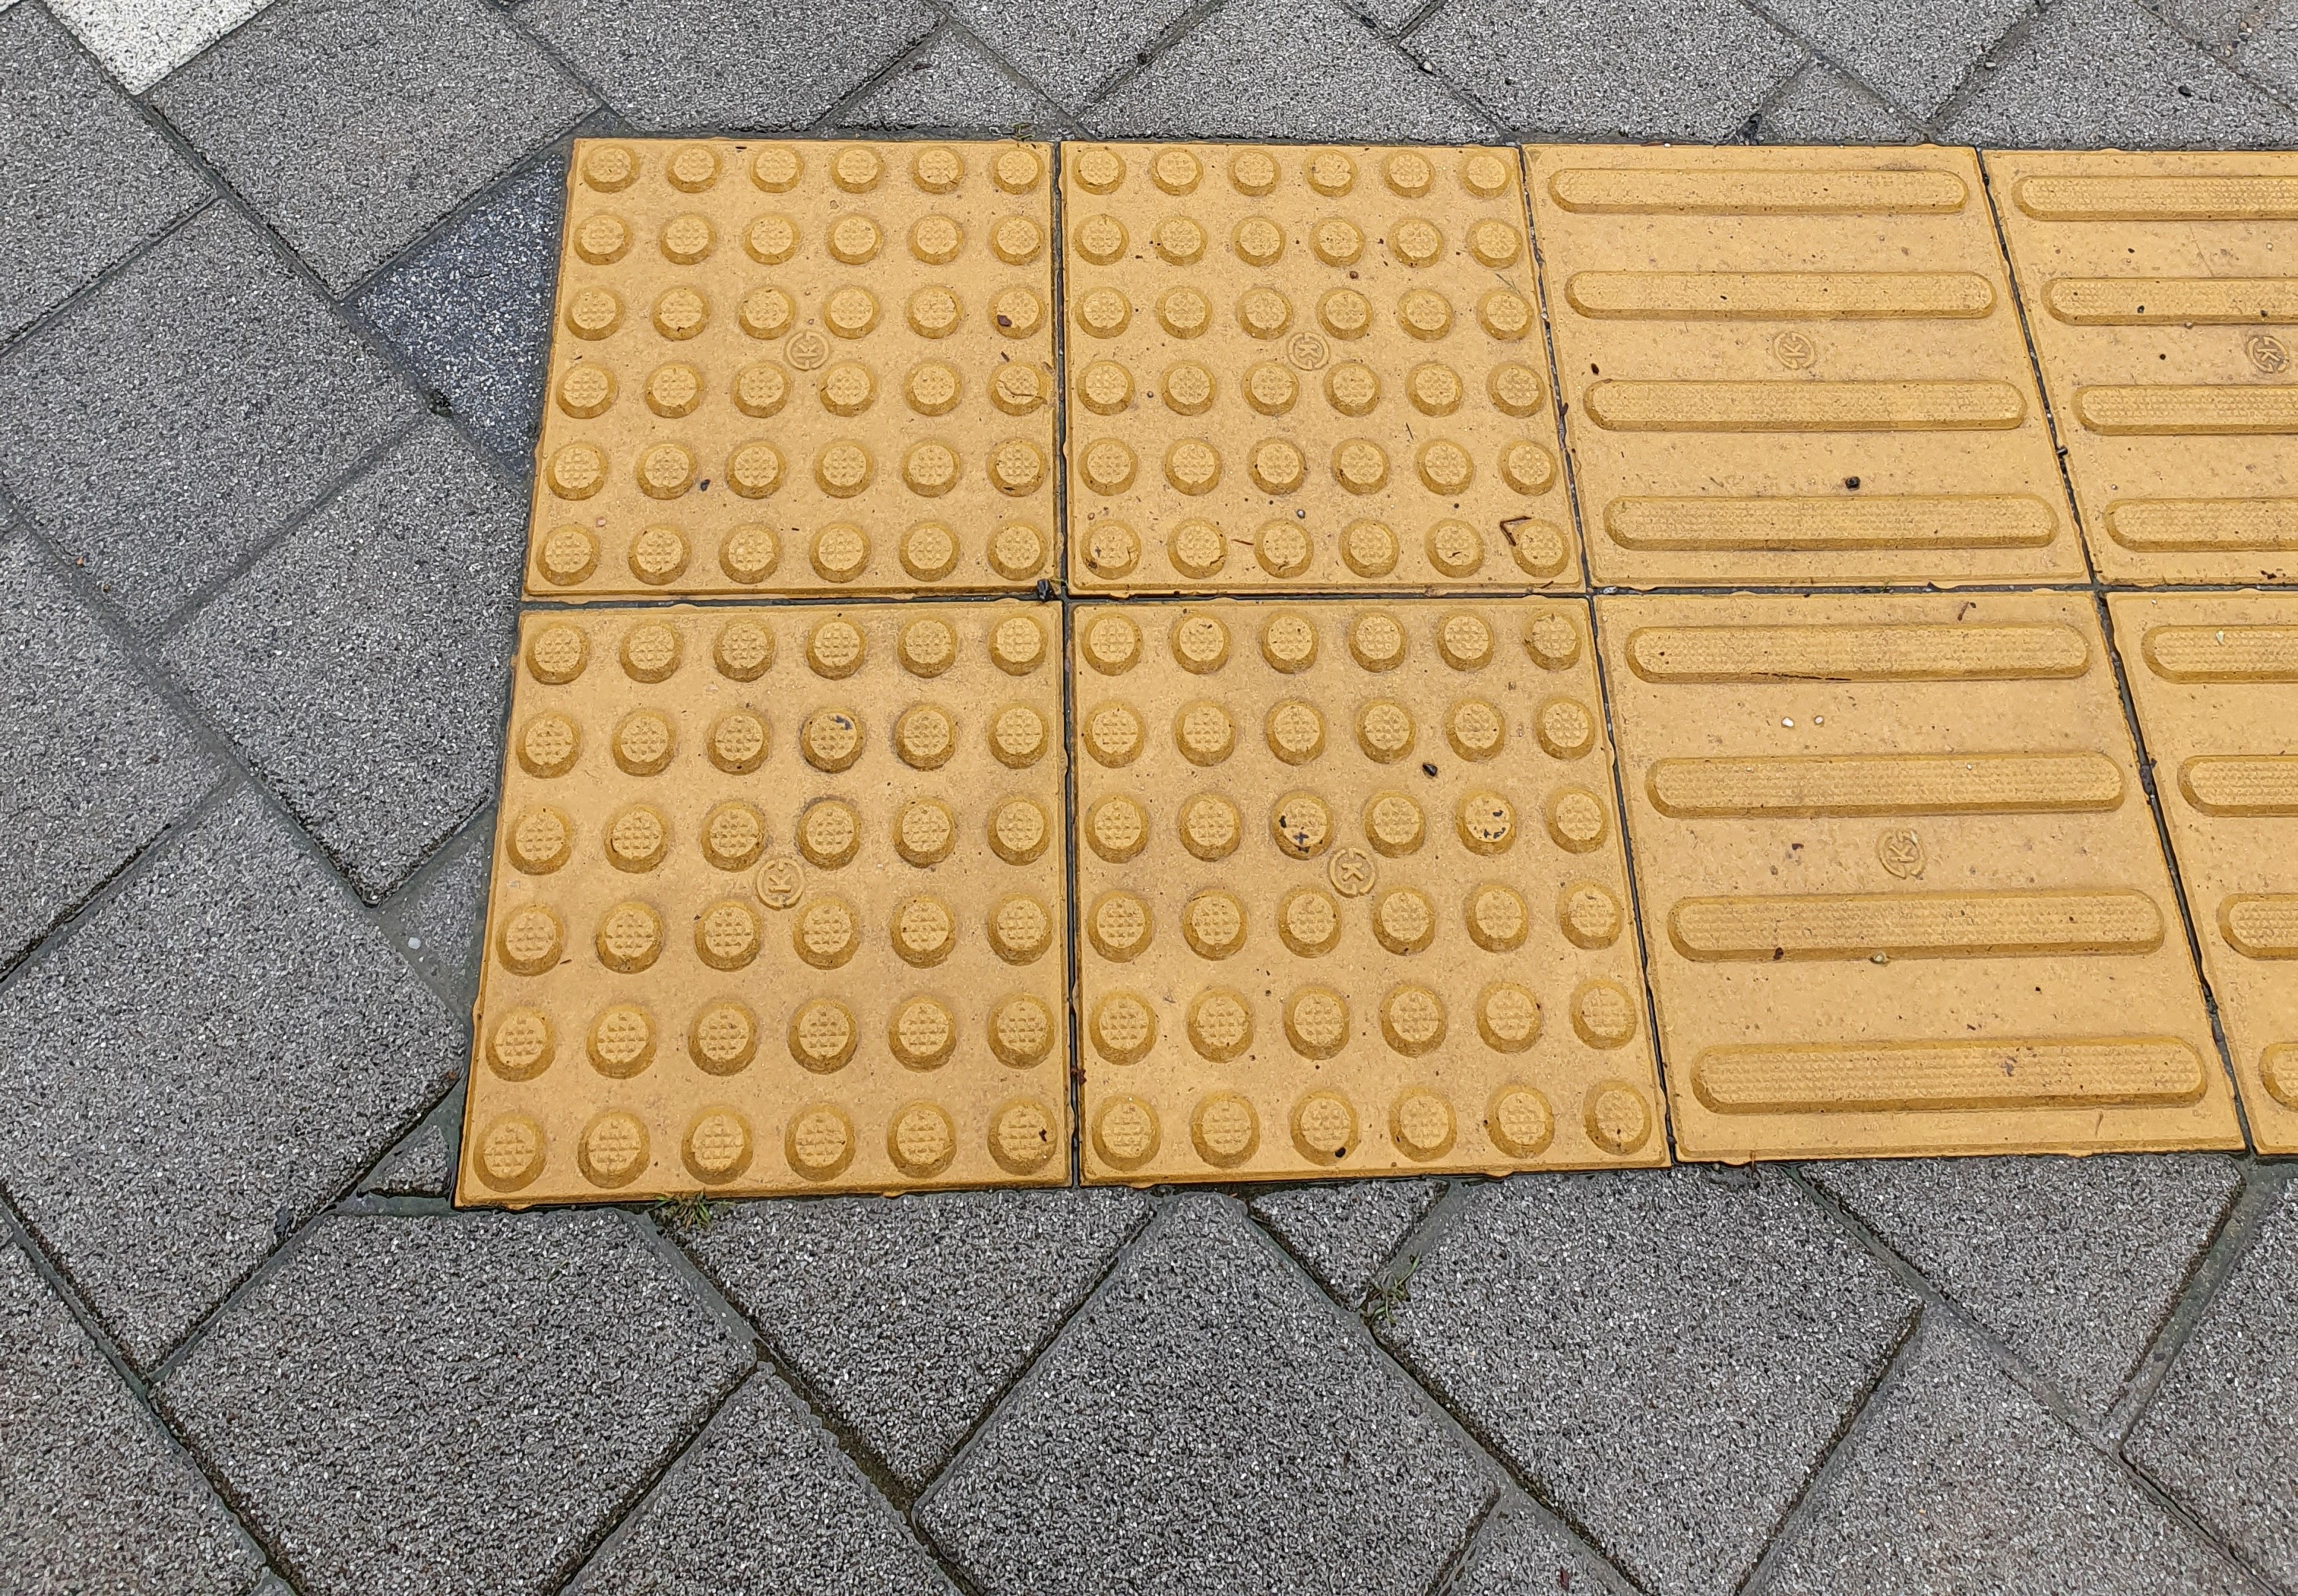guideBlock: (1600, 597, 2204, 1139), (1537, 145, 2104, 557), (2033, 154, 2298, 527), (2148, 606, 2298, 1126)
warningBlock: (1065, 613, 1673, 1179), (527, 634, 1114, 1193), (1053, 157, 1533, 616), (566, 140, 1022, 569)
